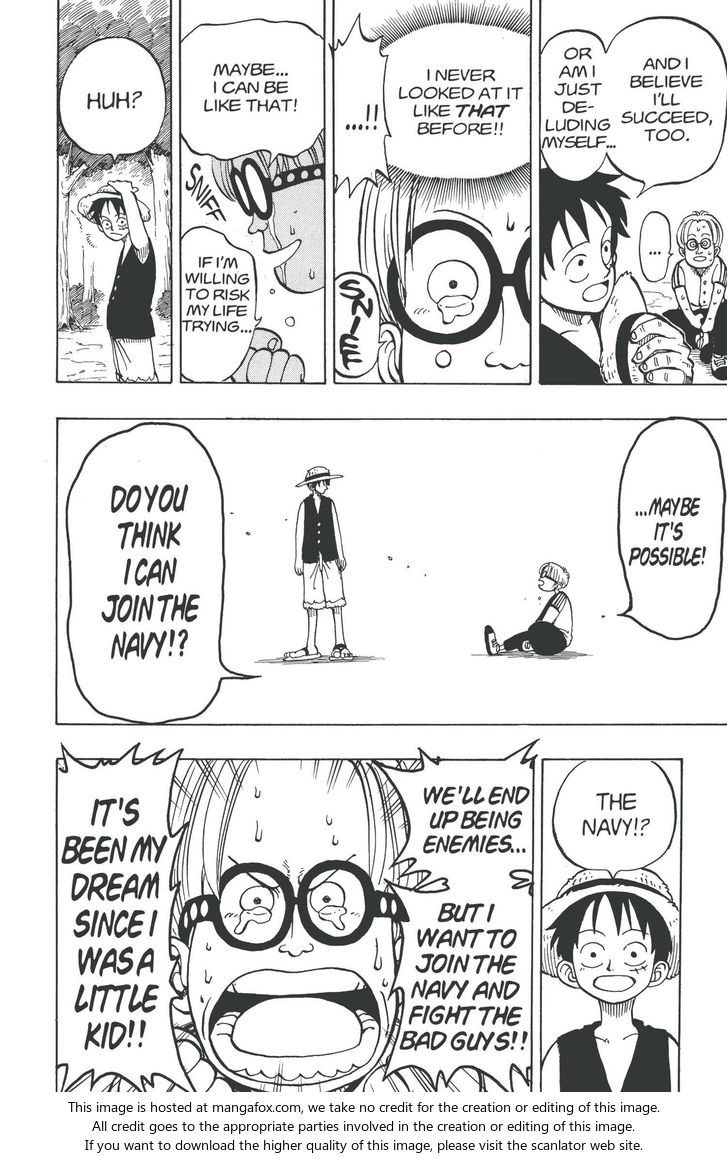bubble: (68, 423, 257, 724), (57, 743, 195, 1092), (385, 881, 533, 1091), (372, 740, 538, 892), (382, 19, 531, 186), (617, 418, 725, 641), (607, 17, 728, 198), (179, 19, 325, 166), (554, 759, 679, 879), (58, 38, 167, 162), (181, 227, 257, 385), (332, 14, 392, 197), (540, 32, 608, 183), (334, 271, 386, 377), (638, 210, 672, 282)
